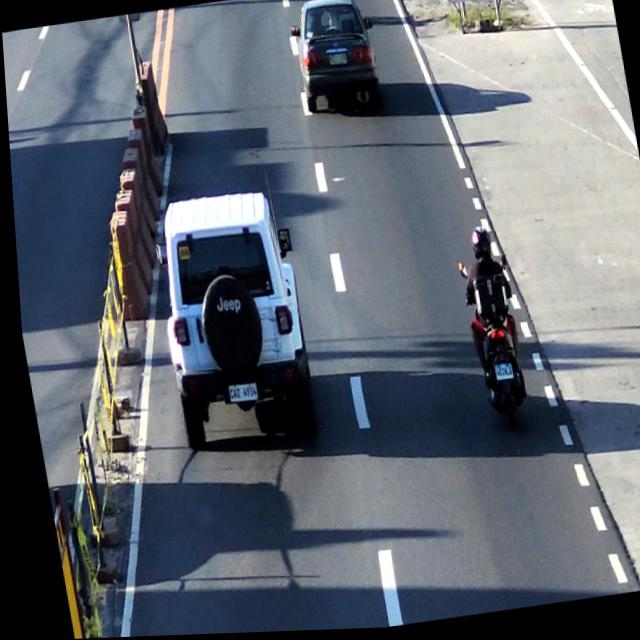Car: (139, 184, 316, 454), (287, 0, 386, 130)
License-Plate: (218, 380, 255, 406), (325, 49, 349, 67), (486, 366, 509, 384)
Motorcycle: (448, 220, 526, 438)
